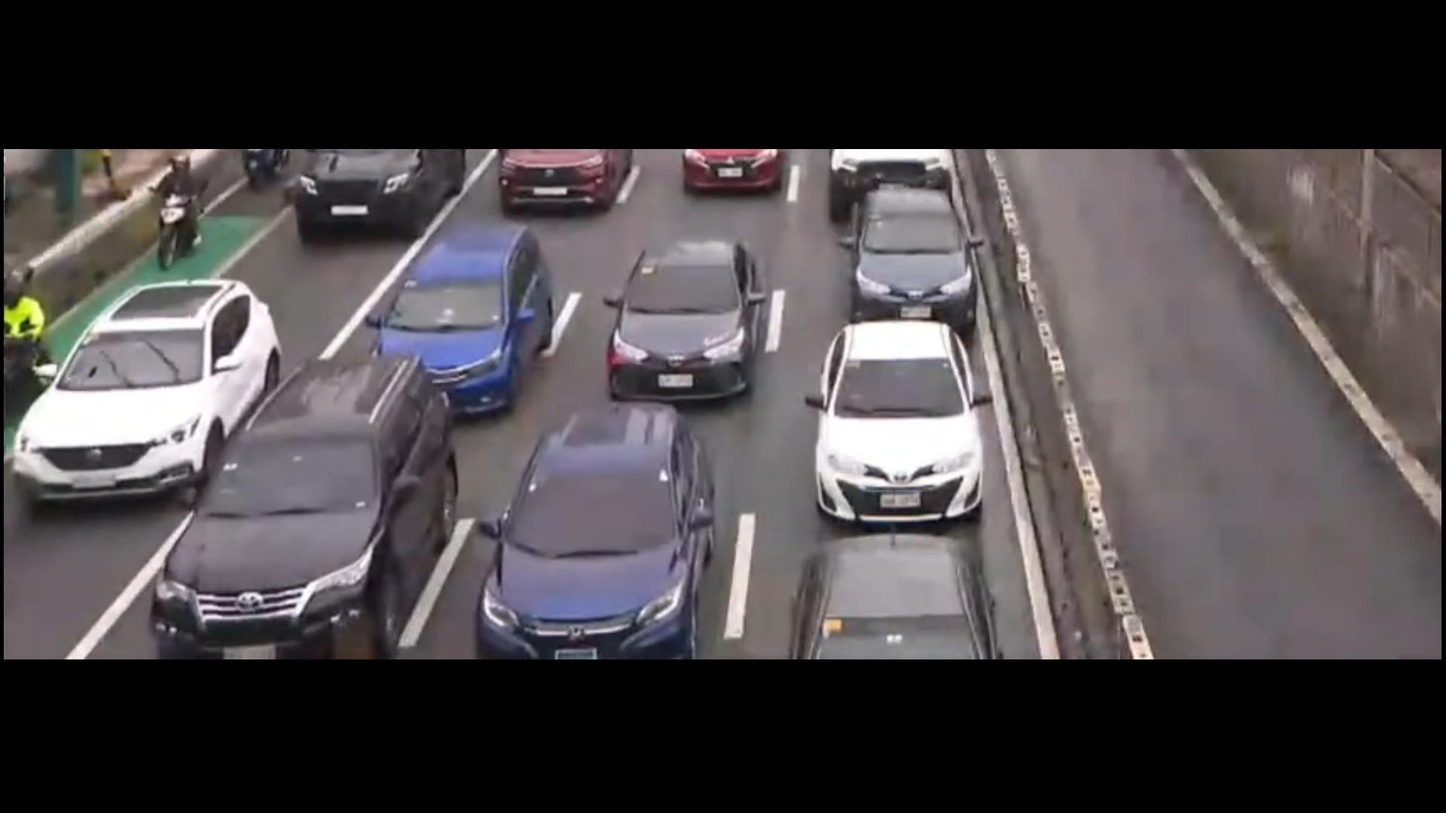Motorcycle: (121, 149, 198, 256)
SUV: (168, 350, 461, 657), (469, 399, 719, 661), (15, 271, 262, 506), (288, 137, 467, 237)
Sedan: (810, 322, 992, 519), (369, 226, 542, 410), (791, 525, 1007, 662), (606, 226, 753, 399), (844, 184, 987, 359)
Truck: (0, 243, 51, 420)
